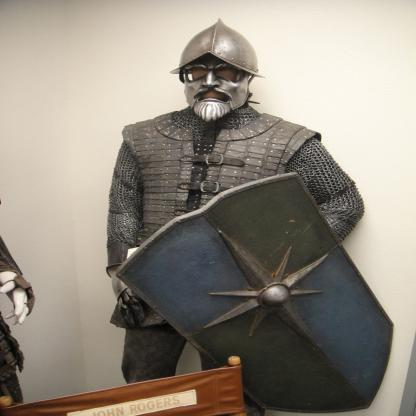Helmet: (166, 15, 263, 121)
